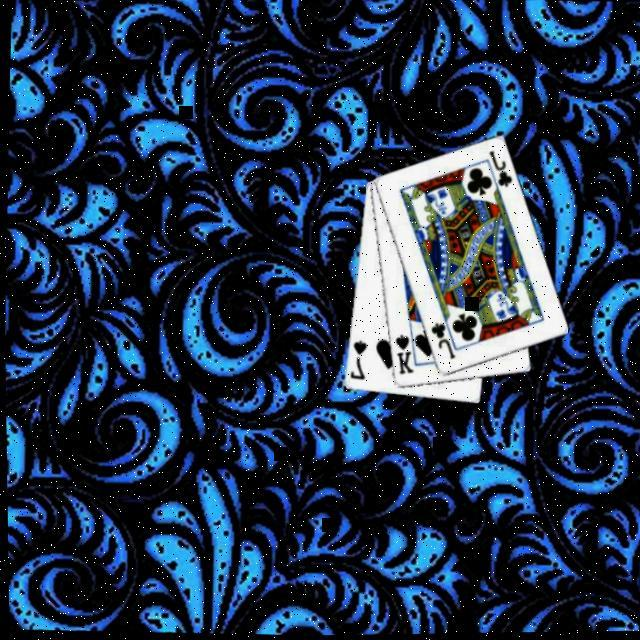7S: (345, 337, 370, 382)
JC: (427, 319, 459, 362), (485, 148, 516, 190)
KS: (391, 332, 417, 377)
